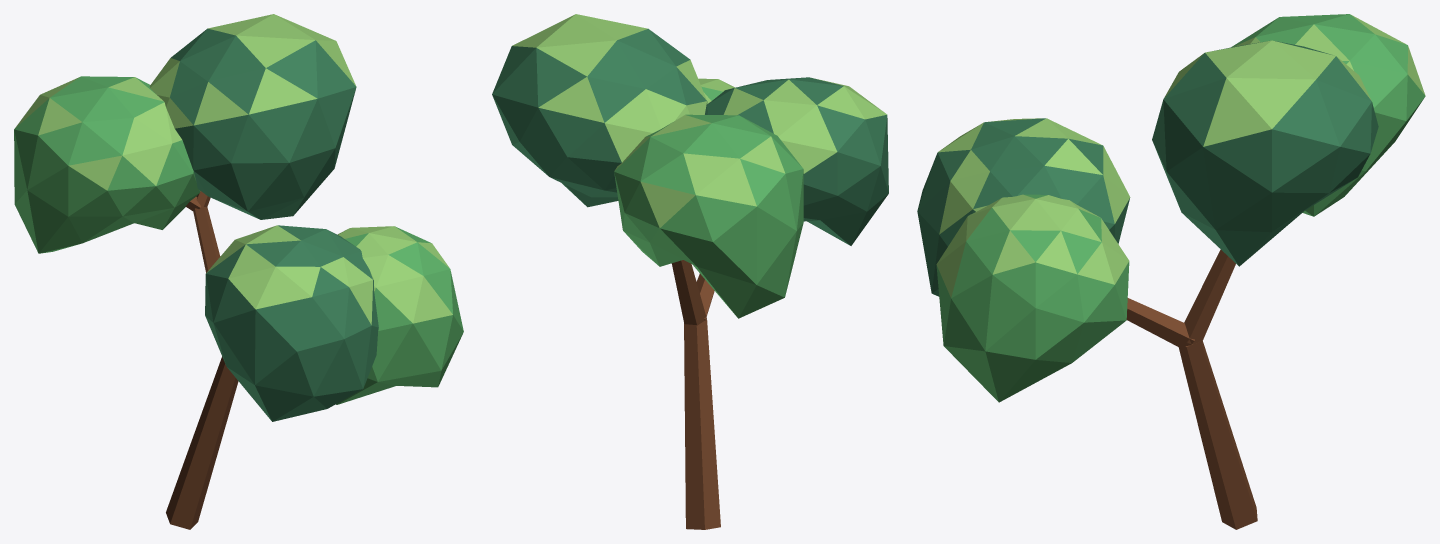
File: bush_broadleaf_a.glb
3 views of the same model, side by side, from view 1: azimuth 30°, elevation 25°; view 2: azimuth 150°, elevation 25°; view 3: azimuth 270°, elevation 25° (orthographic). The views are drawn at different scales.
Parts seen in each view (by area): view 1: BushBroadleafA; view 2: BushBroadleafA; view 3: BushBroadleafA.
Part boxes in pixels (x1,y1,x2,y2): BushBroadleafA: (14,14,463,529); BushBroadleafA: (492,14,888,529); BushBroadleafA: (917,14,1425,529).
Bounding box in the file's own units: 1.13 × 1.69 × 1.5.
